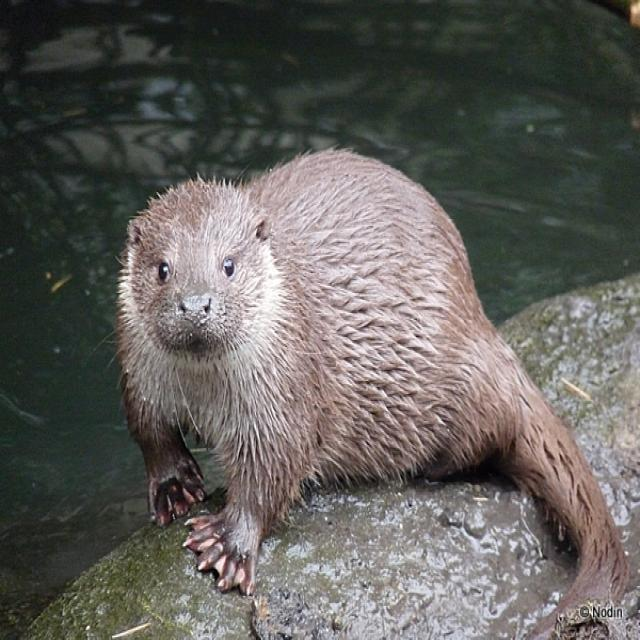otter: (120, 149, 473, 497)
